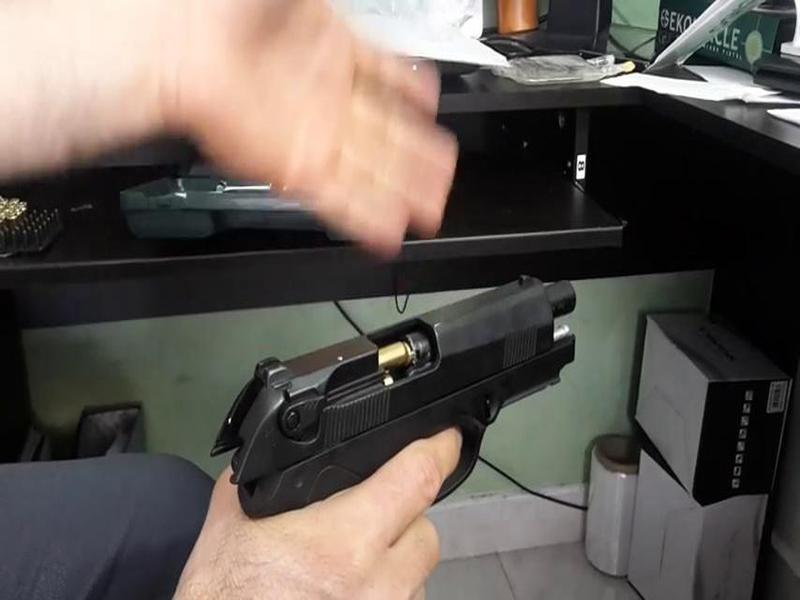Pistola: (220, 244, 592, 542)
